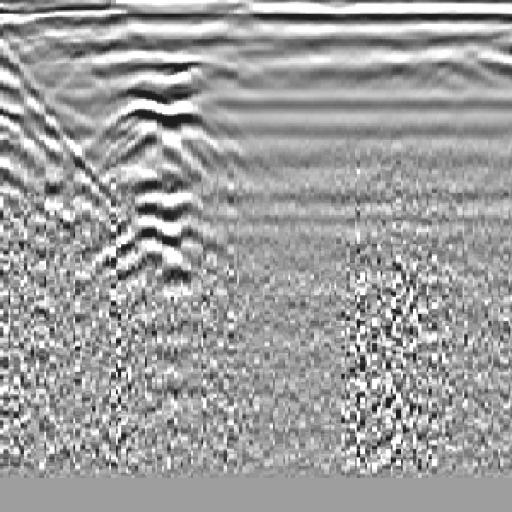metalic: (82, 59, 259, 306)
